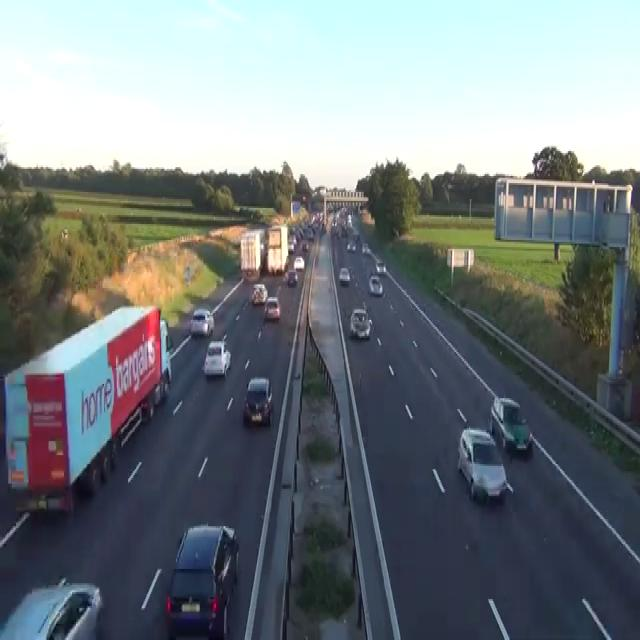Car: (281, 492, 367, 638), (165, 523, 239, 638), (0, 576, 103, 638), (457, 427, 510, 503), (489, 394, 531, 452), (243, 377, 273, 425), (203, 339, 231, 377), (349, 308, 372, 340), (188, 308, 214, 336), (140, 389, 154, 422), (263, 295, 281, 320), (160, 318, 172, 354), (251, 283, 268, 304), (368, 274, 383, 295), (338, 266, 350, 284), (287, 270, 298, 286), (293, 256, 305, 270), (375, 260, 386, 274), (183, 265, 190, 284), (60, 228, 68, 242), (346, 240, 356, 251), (361, 242, 369, 254), (287, 240, 294, 252), (306, 228, 313, 240), (301, 240, 308, 251), (352, 229, 359, 240), (347, 214, 352, 228), (328, 202, 333, 212)
Truck: (2, 302, 172, 518), (240, 227, 266, 281), (266, 224, 288, 274)
